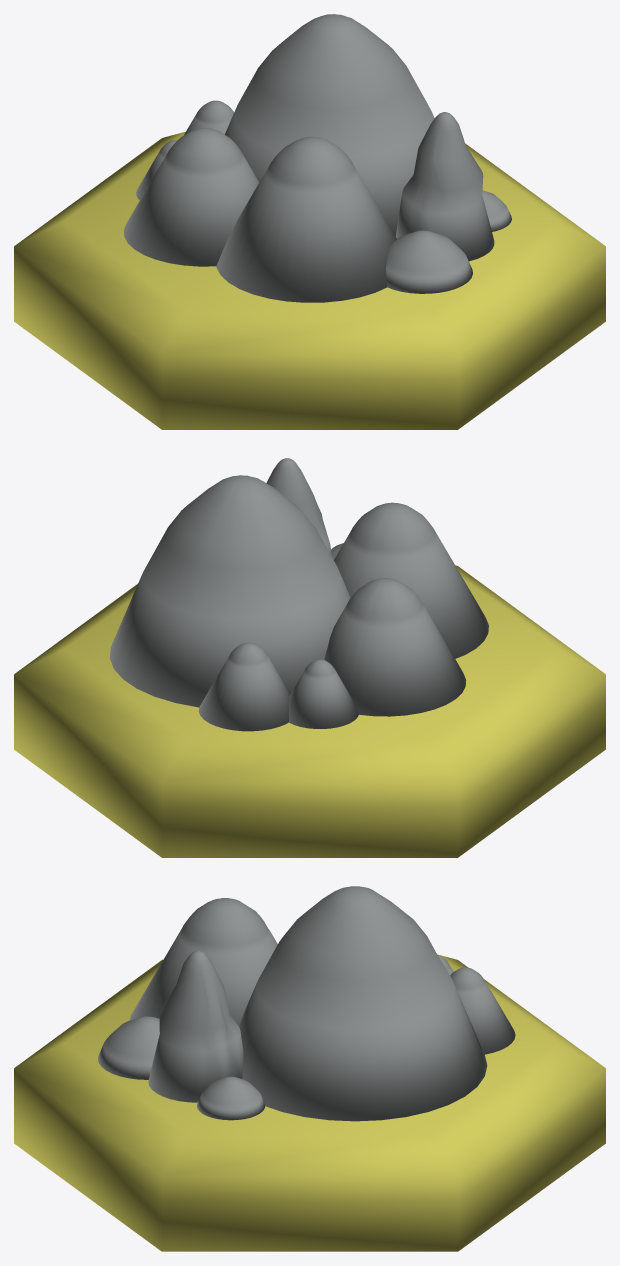
Rendered from HexagonMountain.fbx.
3 renders of one model, top to bottom at view 1: azimuth 30°, elevation 25°; view 2: azimuth 150°, elevation 25°; view 3: azimuth 270°, elevation 25°, orthographic.
Parts seen in each view (by area): view 1: Circle; view 2: Circle; view 3: Circle.
Boxes of the visible parts, left/top/right/bottom form: Circle: left=14, top=14, right=605, bottom=429; Circle: left=14, top=458, right=605, bottom=857; Circle: left=14, top=886, right=605, bottom=1251.
Size of the model in its own units: 173 by 103 by 200.
